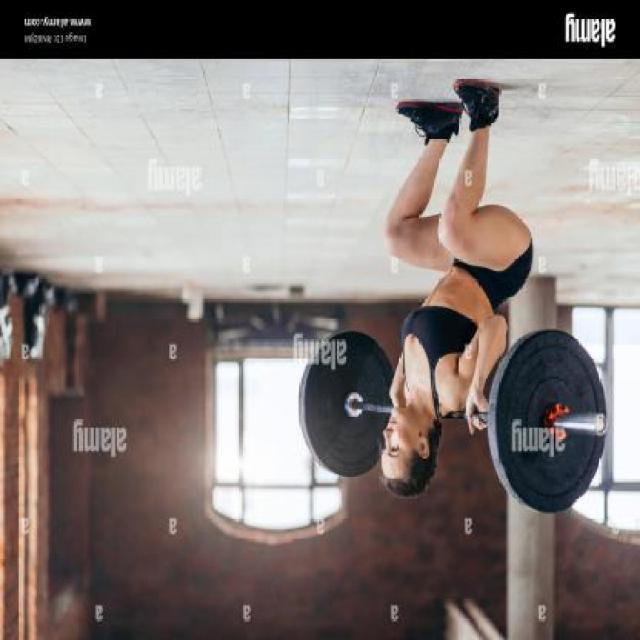Barbell: (592, 412, 608, 438)
